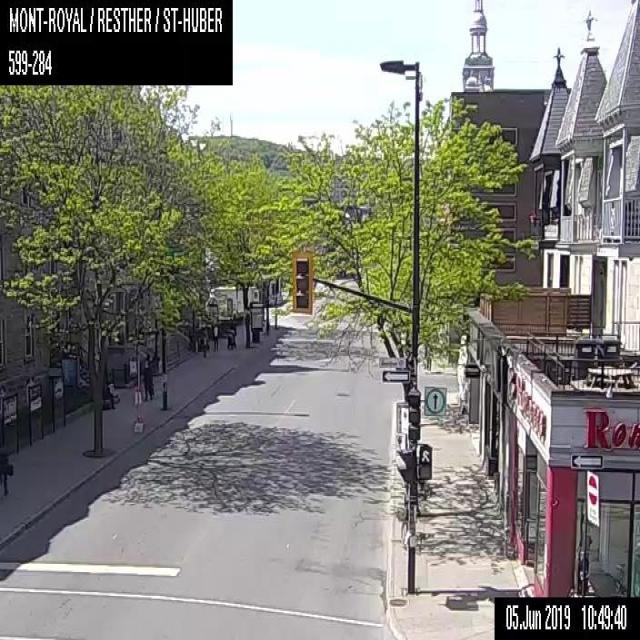pedestrian: (0, 434, 13, 494), (141, 359, 154, 400), (226, 321, 236, 348), (200, 331, 209, 357), (211, 322, 219, 350)
